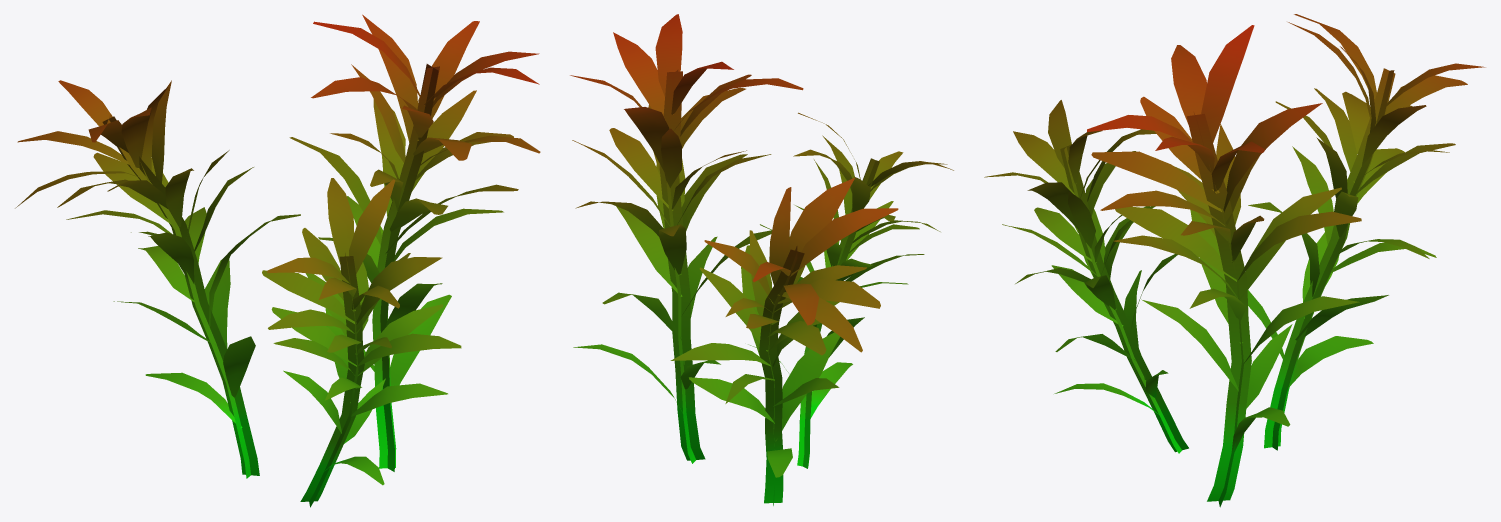
Rendered from Goldenrods_LOD3_Var6.fbx.
The picture shows the model from 3 angles, left to right: view 1: azimuth 30°, elevation 25°; view 2: azimuth 150°, elevation 25°; view 3: azimuth 270°, elevation 25°; orthographic projection. The views are drawn at different scales.
Visible parts, largest first — view 1: _sc4v_Var6_LOD3; view 2: _sc4v_Var6_LOD3; view 3: _sc4v_Var6_LOD3.
Part boxes in pixels (bbox=[...]): _sc4v_Var6_LOD3: bbox=[15, 14, 540, 507]; _sc4v_Var6_LOD3: bbox=[570, 14, 953, 505]; _sc4v_Var6_LOD3: bbox=[984, 14, 1485, 507].
Bounding box in the file's own units: 48.38 × 52.26 × 52.84.
